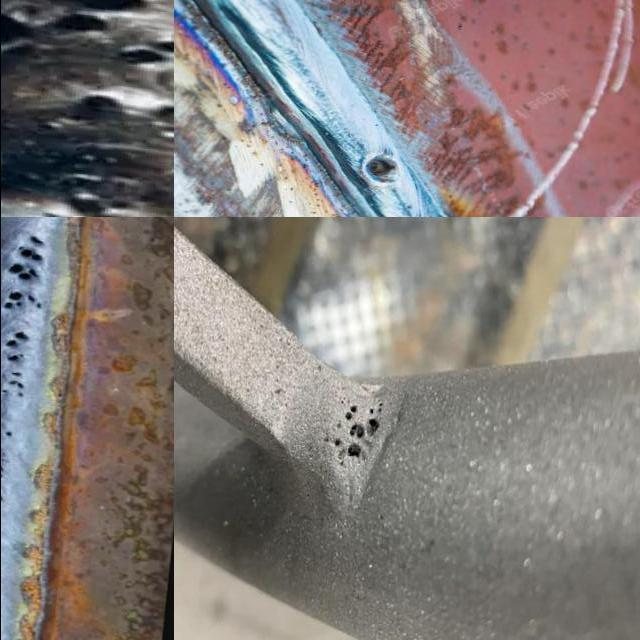defect: (31, 171, 146, 217), (49, 0, 152, 42), (112, 36, 173, 70), (359, 151, 401, 185), (71, 90, 128, 113), (0, 288, 45, 311), (2, 326, 29, 363), (366, 395, 385, 435), (0, 370, 26, 399), (2, 263, 39, 283), (14, 245, 45, 261), (344, 440, 361, 462), (348, 419, 364, 440), (343, 401, 358, 423), (0, 428, 14, 444), (27, 234, 45, 245), (338, 395, 347, 405), (0, 463, 6, 478), (333, 437, 341, 448), (321, 434, 329, 445), (336, 418, 343, 429), (0, 492, 4, 502)
